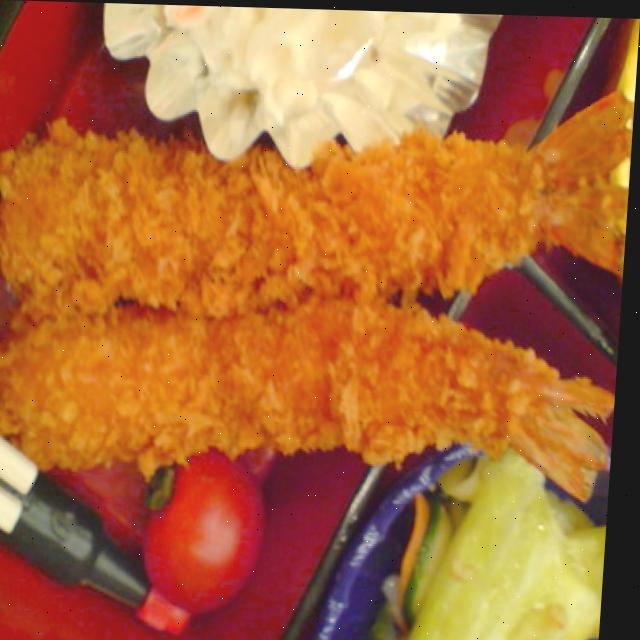炸货点心: (0, 77, 636, 513)
熟制海鲜: (0, 77, 636, 513)
